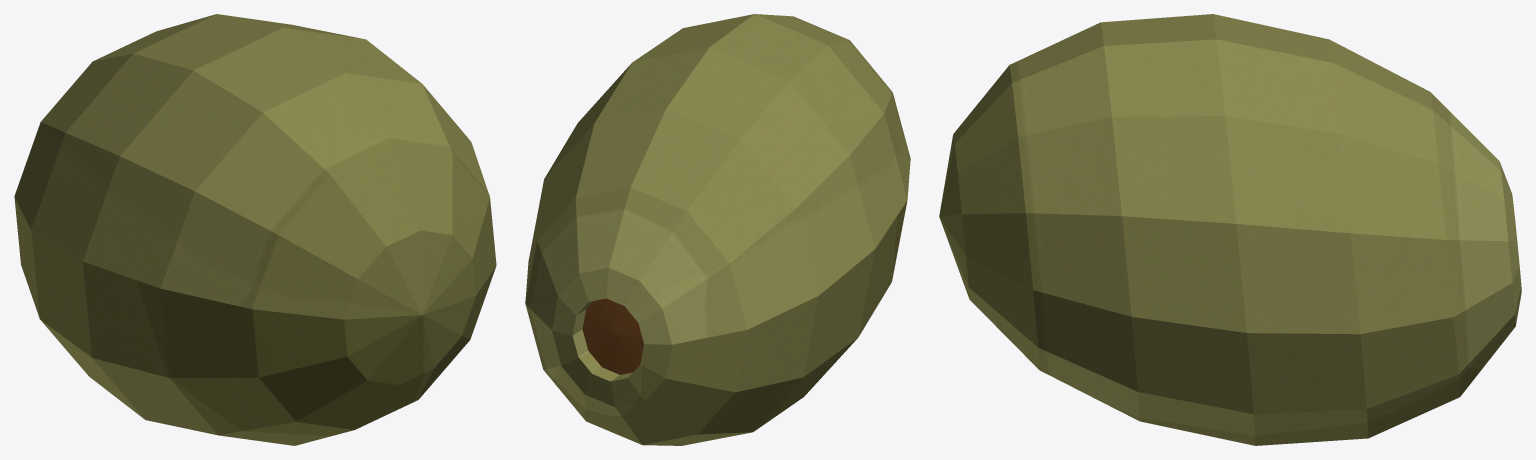
File: zeytinv2.fbx
3 renders of one model, left to right at view 1: azimuth 30°, elevation 25°; view 2: azimuth 150°, elevation 25°; view 3: azimuth 270°, elevation 25°, orthographic. The views are drawn at different scales.
Parts seen in each view (by area): view 1: Cube.038; view 2: Cube.038; view 3: Cube.038.
Part boxes in pixels (x1,y1,x2,y2): Cube.038: [14, 14, 496, 445]; Cube.038: [525, 14, 910, 445]; Cube.038: [939, 14, 1521, 445].
Bounding box in the file's own units: 37.58 × 40.88 × 54.14.
Materials: 1 (1 with a texture image).
